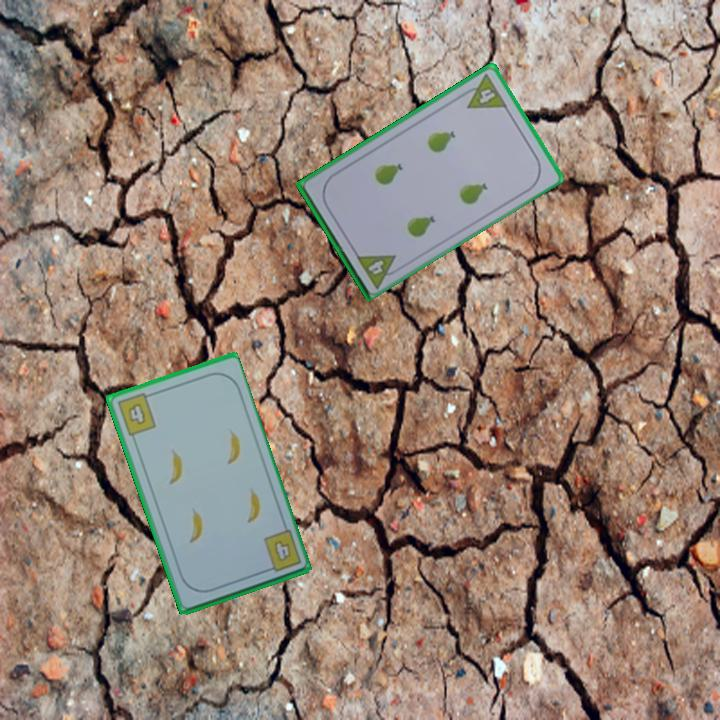4b: (113, 389, 159, 439), (260, 526, 304, 575)
4p: (457, 70, 510, 112), (352, 250, 405, 290)
